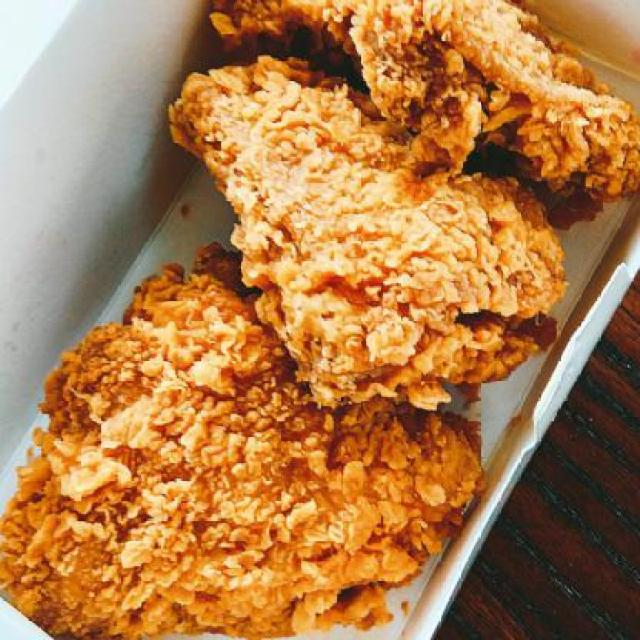Chicken -Fried Chicken-: (6, 260, 485, 631), (169, 55, 569, 411), (210, 0, 638, 214)
